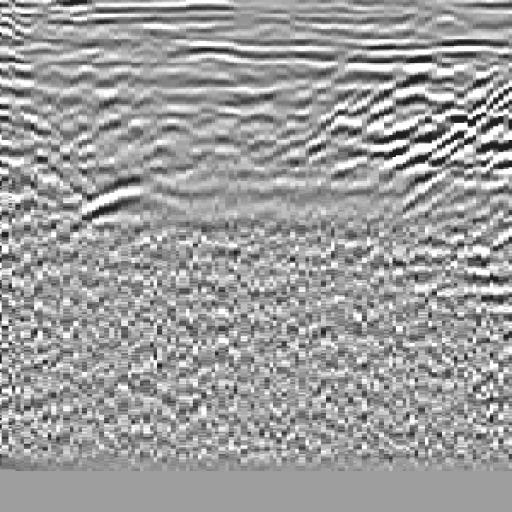metalic: (49, 128, 201, 265)
nonmetalic: (400, 47, 512, 243)
